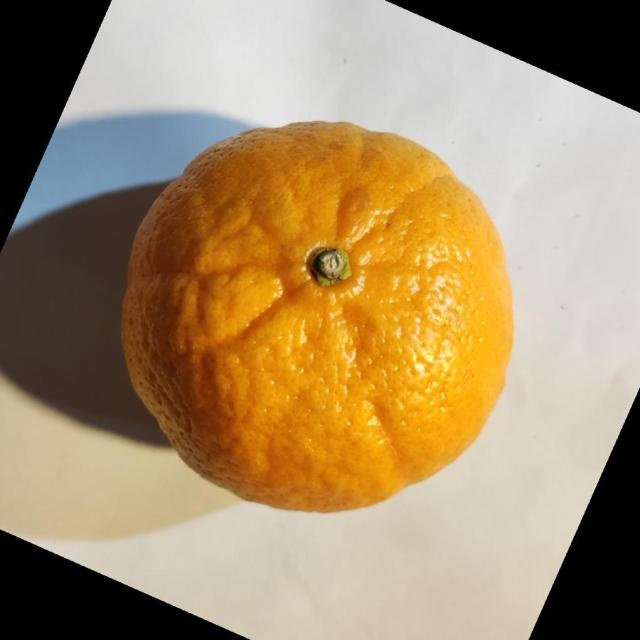agrume: (120, 118, 515, 514)
